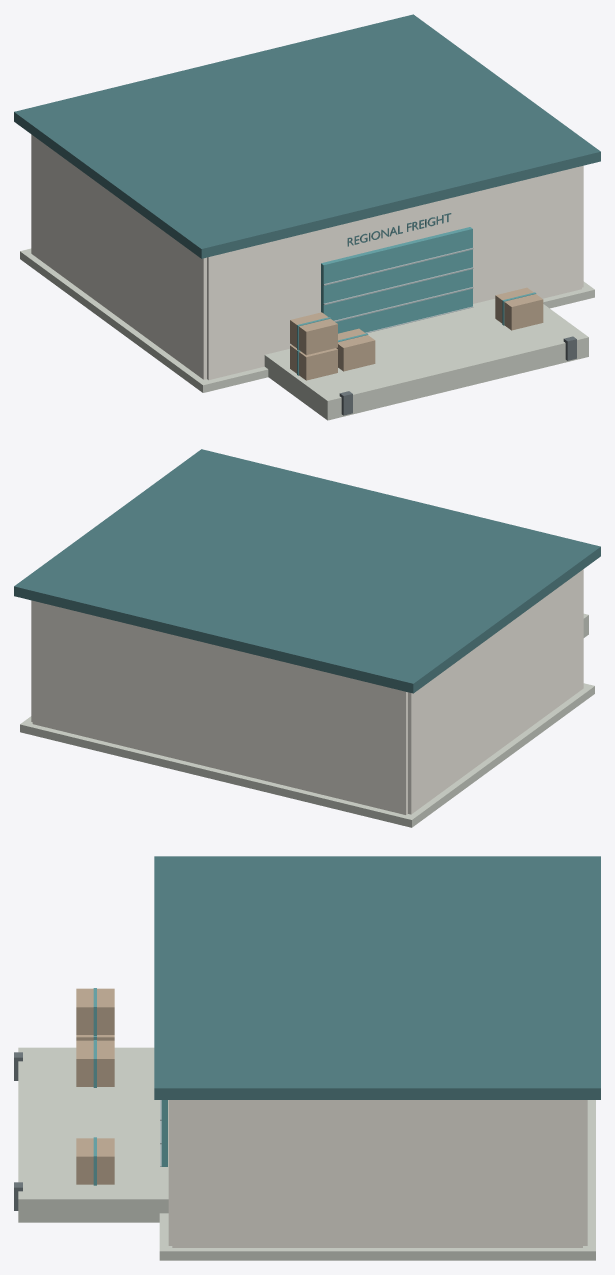
The model's file is branch_warehouse.glb.
The picture shows the model from 3 angles, top to bottom: view 1: azimuth 30°, elevation 25°; view 2: azimuth 150°, elevation 25°; view 3: azimuth 270°, elevation 25°; orthographic projection. The views are drawn at different scales.
Parts seen in each view (by area): view 1: branch_warehouse__roof, branch_warehouse__front_wall, branch_warehouse__side_wall, branch_warehouse__loading_dock, branch_warehouse__cargo_door, branch_warehouse__foundation, branch_warehouse__freight_crate.003, branch_warehouse__freight_crate.002, branch_warehouse__freight_crate.001, branch_warehouse__freight_crate, branch_warehouse__warehouse_letters; view 2: branch_warehouse__roof, branch_warehouse__rear_wall, branch_warehouse__side_wall, branch_warehouse__foundation; view 3: branch_warehouse__roof, branch_warehouse__side_wall.001, branch_warehouse__loading_dock, branch_warehouse__foundation, branch_warehouse__freight_crate.001, branch_warehouse__freight_crate.002, branch_warehouse__freight_crate.003, branch_warehouse__front_wall, branch_warehouse__rear_wall.
Boxes of the visible parts, box(x1,y1,x2,y2) form: branch_warehouse__roof: box(14, 14, 600, 258); branch_warehouse__front_wall: box(207, 166, 581, 380); branch_warehouse__side_wall: box(31, 134, 206, 379); branch_warehouse__loading_dock: box(264, 299, 588, 420); branch_warehouse__cargo_door: box(321, 227, 472, 333); branch_warehouse__foundation: box(20, 248, 594, 392); branch_warehouse__freight_crate.003: box(495, 287, 543, 330); branch_warehouse__freight_crate.002: box(290, 312, 337, 355); branch_warehouse__freight_crate.001: box(336, 328, 375, 371); branch_warehouse__freight_crate: box(290, 345, 337, 380); branch_warehouse__warehouse_letters: box(347, 213, 451, 246); branch_warehouse__roof: box(14, 449, 600, 693); branch_warehouse__rear_wall: box(32, 601, 407, 814); branch_warehouse__side_wall: box(408, 569, 583, 814); branch_warehouse__foundation: box(20, 683, 594, 827); branch_warehouse__roof: box(154, 856, 600, 1099); branch_warehouse__side_wall.001: box(172, 1100, 582, 1247); branch_warehouse__loading_dock: box(18, 1047, 168, 1222); branch_warehouse__foundation: box(159, 1100, 595, 1260); branch_warehouse__freight_crate.001: box(76, 1040, 114, 1086); branch_warehouse__freight_crate.002: box(76, 988, 114, 1034); branch_warehouse__freight_crate.003: box(76, 1138, 114, 1184); branch_warehouse__front_wall: box(168, 1100, 172, 1245); branch_warehouse__rear_wall: box(583, 1100, 587, 1245).
Bounding box in the file's own units: 21.4 × 7.5 × 22.87.
